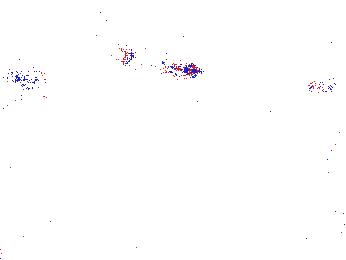X-ray fish: (19, 70, 91, 108)
red belly glassfish: (306, 72, 346, 95)
redtail glassfish: (118, 40, 205, 80)
